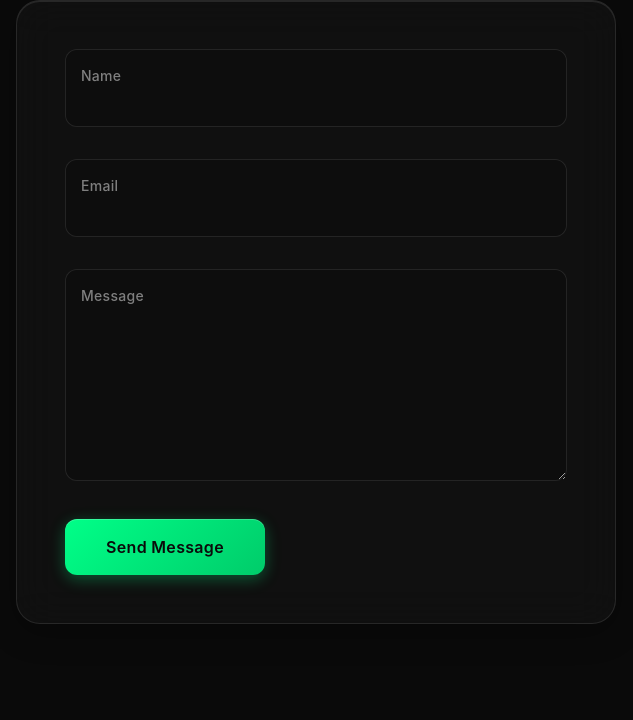
Test: ContactForm › displays validation error for short name
Type "A" into the field labelled "Name" at (316, 88), box left=65, top=49, right=567, bottom=127
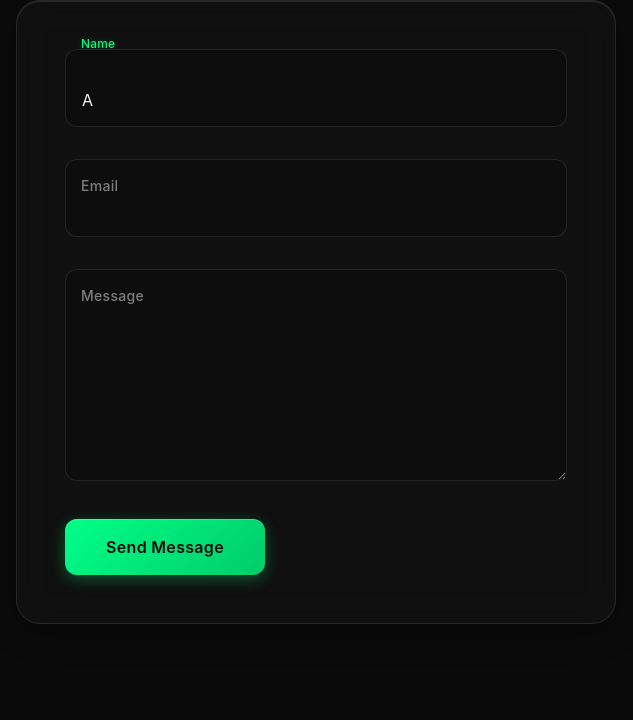
Click the button "Send Message" at (165, 547), box left=65, top=519, right=265, bottom=575
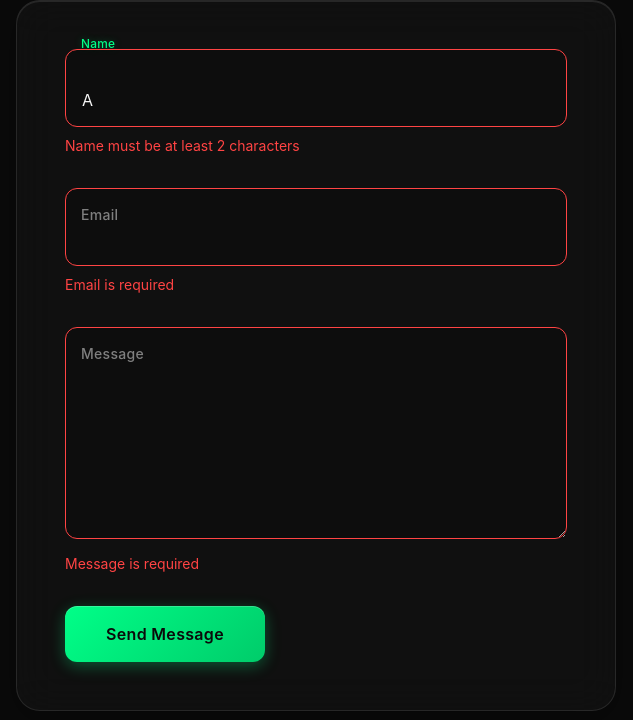
Result: the text "Name must be at least 2 characters" is shown at left=65, top=137, right=300, bottom=154
